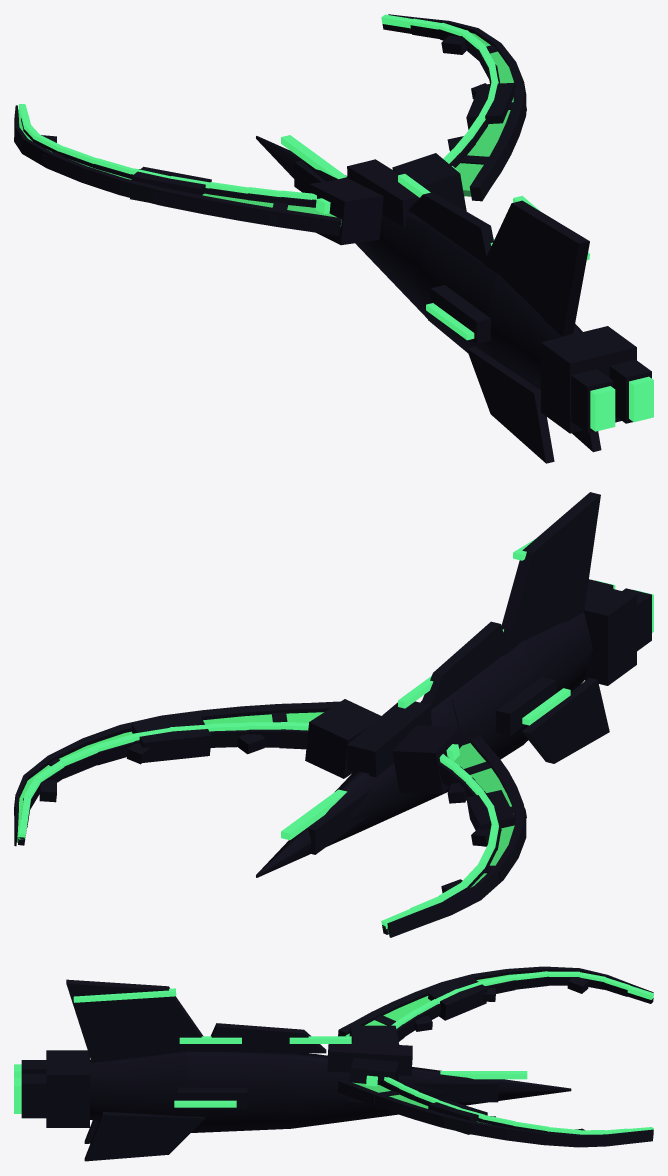
File: boss_mantis.glb
The picture shows the model from 3 angles, top to bottom: view 1: azimuth 30°, elevation 25°; view 2: azimuth 150°, elevation 25°; view 3: azimuth 270°, elevation 25°; orthographic projection. The views are drawn at different scales.
Parts seen in each view (by area): view 1: dorsal_fin, wing_outer_frame_port, engine_block, mid_fuselage, aft_fuselage, ventral_fin_port, forward_fuselage, wing_shoulder_port, wing_outer_frame_starboard, spine_ridge, cockpit_canopy, wing_shoulder_starboard (+11 smaller); view 2: dorsal_fin, mid_fuselage, engine_block, ventral_fin_port, wing_outer_frame_port, aft_fuselage, wing_shoulder_port, wing_shoulder_starboard, cockpit_canopy, wing_outer_frame_starboard, forward_fuselage, spine_ridge (+9 smaller); view 3: dorsal_fin, mid_fuselage, aft_fuselage, forward_fuselage, wing_outer_frame_starboard, ventral_fin_starboard, engine_block, spine_ridge, wing_outer_frame_port, cockpit_canopy, nose_spike, wing_elbow_port (+15 smaller).
Part boxes in pixels (x1,y1,x2,y2): dorsal_fin: (483,200,589,336); wing_outer_frame_port: (14,105,341,235); engine_block: (541,326,636,433); mid_fuselage: (416,228,498,356); aft_fuselage: (487,275,582,389); ventral_fin_port: (466,346,554,463); forward_fuselage: (355,214,432,318); wing_shoulder_port: (308,178,383,245); wing_outer_frame_starboard: (388,14,526,201); spine_ridge: (408,192,493,262); cockpit_canopy: (347,159,419,227); wing_shoulder_starboard: (392,153,466,211); dorsal_fin: (501,492,600,655); mid_fuselage: (447,642,533,759); engine_block: (584,583,636,685); ventral_fin_port: (522,677,609,763); wing_outer_frame_port: (387,735,526,937); aft_fuselage: (521,612,592,743); wing_shoulder_port: (392,725,463,794); wing_shoulder_starboard: (305,699,380,778); cockpit_canopy: (347,701,431,777); wing_outer_frame_starboard: (14,701,340,846); forward_fuselage: (347,698,458,831); spine_ridge: (421,621,506,709); dorsal_fin: (66,979,211,1062); mid_fuselage: (187,1051,293,1132); aft_fuselage: (90,1051,186,1120); forward_fuselage: (293,1053,424,1128); wing_outer_frame_starboard: (338,1080,653,1147); ventral_fin_starboard: (84,1112,205,1161); engine_block: (46,1050,89,1127); spine_ridge: (205,1023,326,1053); wing_outer_frame_port: (338,966,653,1036); cockpit_canopy: (327,1042,412,1075); nose_spike: (425,1068,571,1105); wing_elbow_port: (428,976,487,1020).
Bounding box in the file's own units: 10.96 × 5.1 × 17.49.
